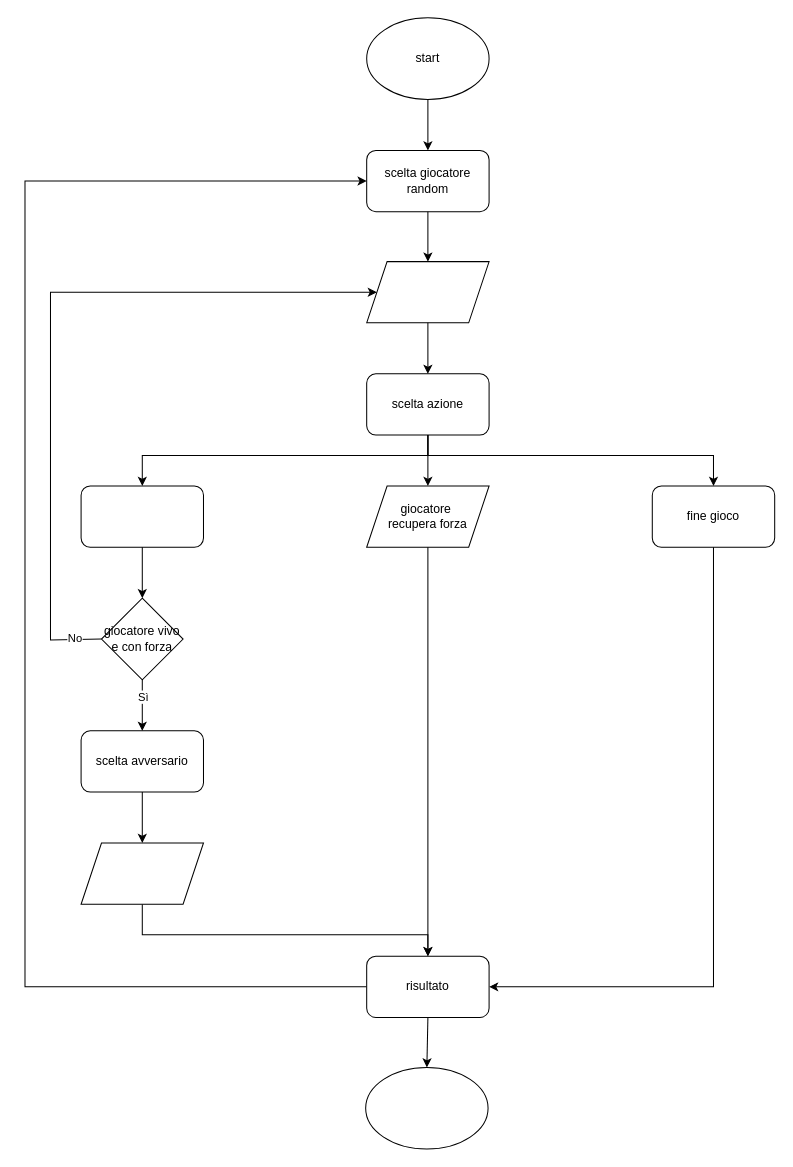
This 793x1167 diagram has some shape labels left out. Here are the shapes that lost their labels. From the top down, the centre of each, then its label:
At point 427,292: "presentazione menu delle azioni".
At point 141,516: "giocatore vuole attaccare".
At point 141,873: "giocatore attacca avversario".
At point 426,1107: "end".
